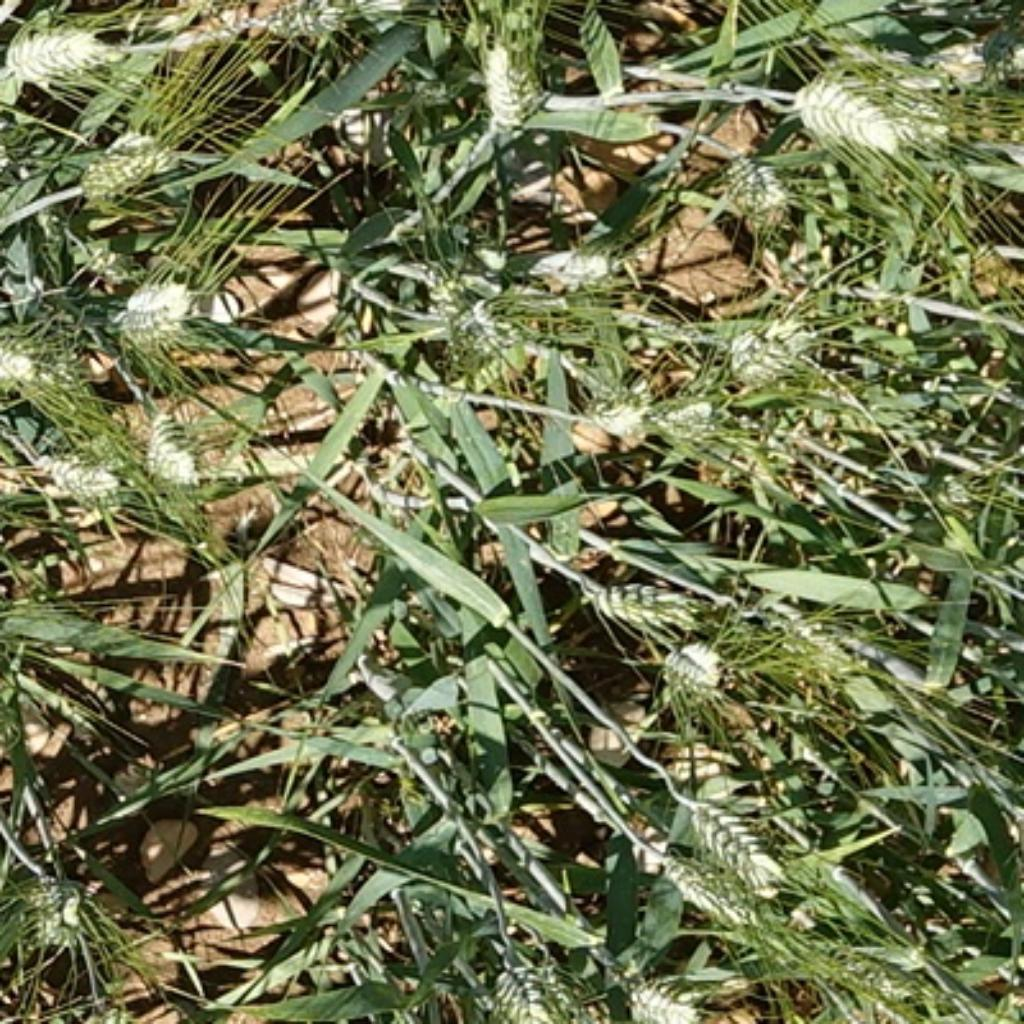0-0: (783, 76, 953, 165), (53, 115, 189, 222), (419, 263, 537, 376), (640, 852, 791, 939), (688, 796, 798, 911), (457, 938, 588, 1024), (704, 296, 819, 384), (10, 847, 110, 947), (232, 0, 414, 53), (576, 576, 709, 645), (4, 16, 121, 85), (110, 266, 202, 350), (471, 30, 545, 130), (0, 307, 87, 391), (709, 140, 796, 222), (138, 396, 212, 491), (30, 435, 120, 504), (532, 227, 627, 291), (586, 381, 670, 453), (820, 951, 928, 1005), (645, 373, 724, 442), (617, 968, 707, 1024), (655, 627, 724, 698), (0, 593, 2, 670), (0, 476, 2, 545)
